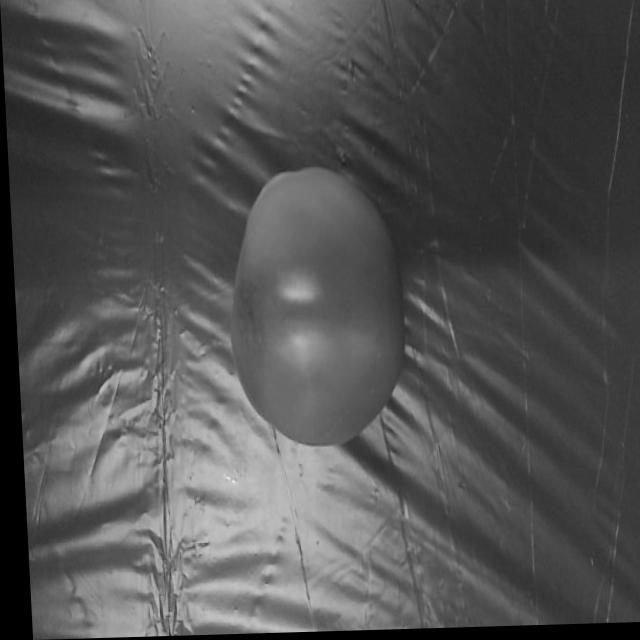sari: (184, 154, 426, 472)
